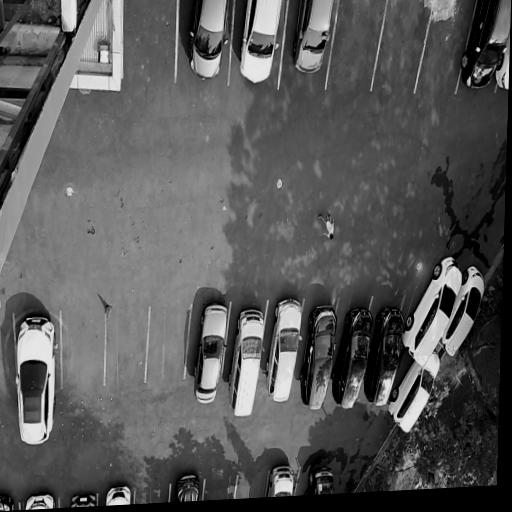Car: (399, 253, 466, 369), (327, 306, 376, 417), (14, 316, 55, 448), (386, 348, 442, 443), (295, 297, 340, 415), (437, 263, 490, 363), (360, 304, 407, 412), (457, 0, 511, 93), (224, 306, 268, 419), (262, 297, 305, 410), (188, 301, 230, 410), (235, 0, 286, 89), (185, 0, 232, 84), (289, 0, 337, 76), (494, 28, 510, 95), (266, 464, 297, 497), (304, 466, 336, 495), (175, 469, 203, 502), (23, 492, 59, 510), (104, 487, 134, 506), (69, 490, 98, 508), (0, 493, 14, 512)
Space Available: (415, 0, 478, 94), (372, 0, 434, 95), (327, 0, 387, 92), (132, 0, 177, 85), (146, 304, 192, 382), (104, 309, 149, 385), (62, 313, 105, 388), (0, 314, 17, 396), (235, 471, 270, 499), (201, 475, 238, 501), (134, 484, 171, 504)
